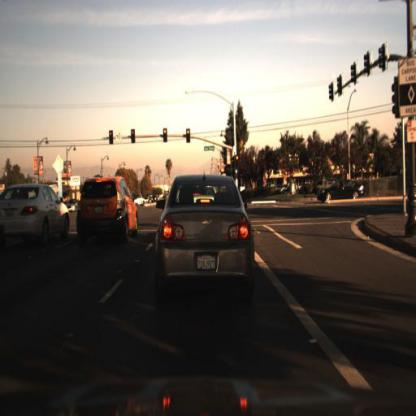car: (158, 178, 258, 303), (1, 184, 74, 245), (76, 178, 142, 243), (310, 177, 368, 205), (317, 176, 367, 204)
trafficLight-Red: (182, 126, 191, 145), (107, 128, 114, 146), (129, 127, 136, 144), (235, 151, 243, 165), (164, 125, 170, 143)
trafficLight-RedLeft: (131, 126, 139, 148), (108, 128, 116, 147)
